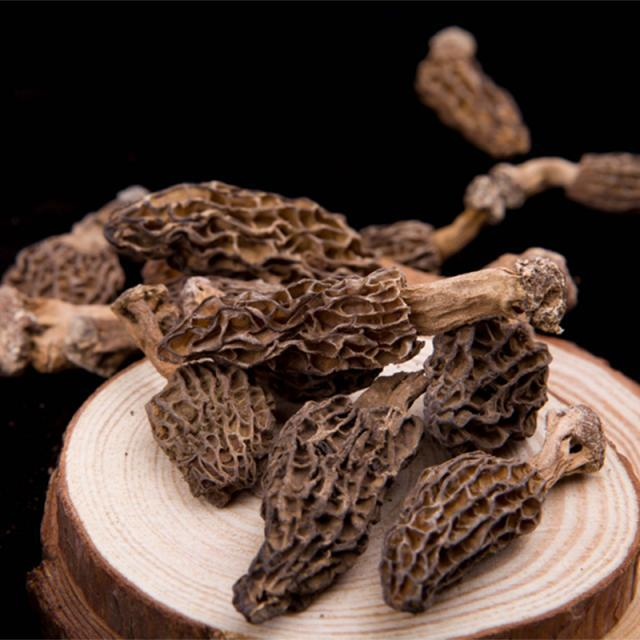Morchella esculenta: (113, 250, 574, 372), (231, 359, 430, 640), (387, 413, 612, 597), (109, 183, 447, 287), (499, 150, 640, 210)
